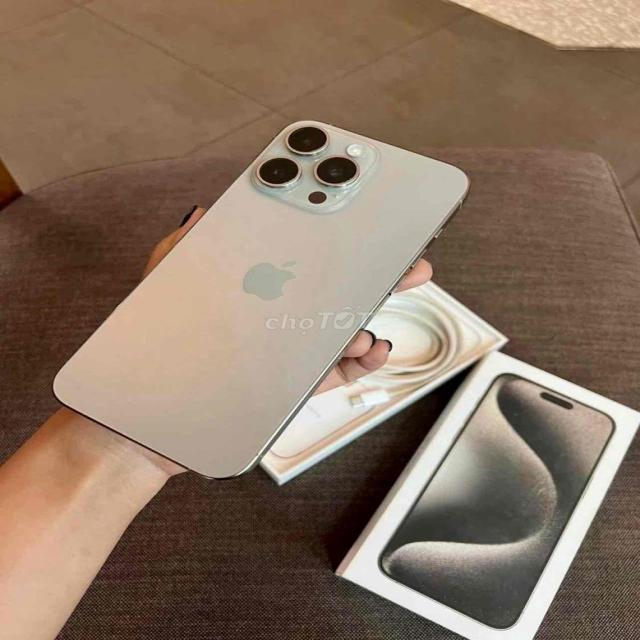gen_15: (44, 104, 481, 487)
